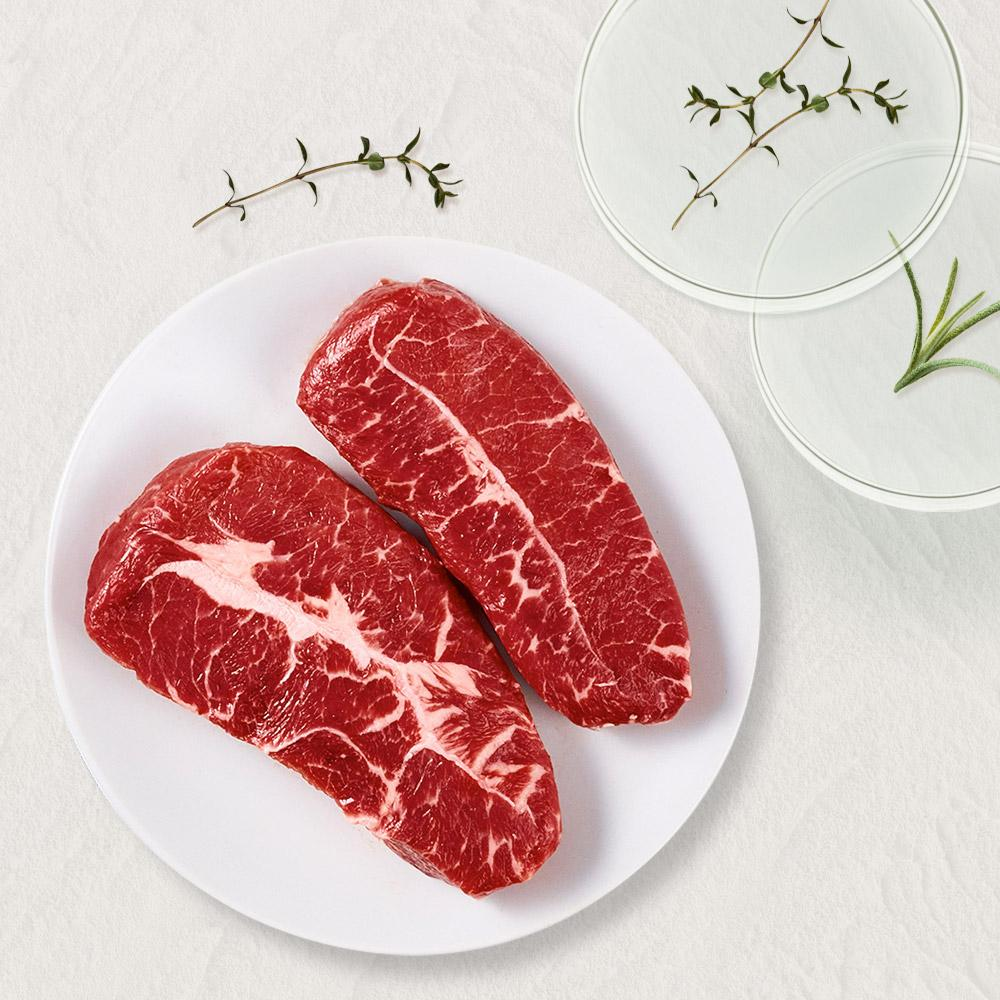beef: (208, 759, 723, 1000)
